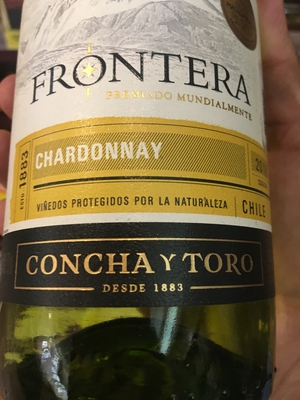frontera chardonnay: (6, 5, 281, 400)
